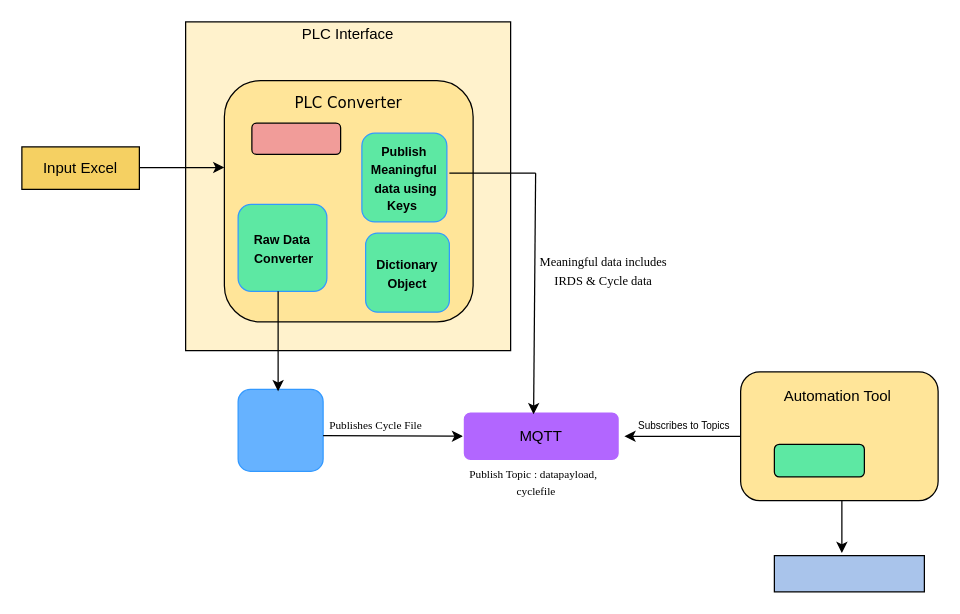
Image size: 960x614. Some labels were removed from this diagram. The box of each missing label's shape, as (x1, y1, x2, y2) in pixels:
Display Comparsion: (773, 554, 924, 592)
Event Extractor: (773, 443, 864, 477)
Logger: (251, 122, 341, 154)
UCP: (237, 388, 323, 471)
